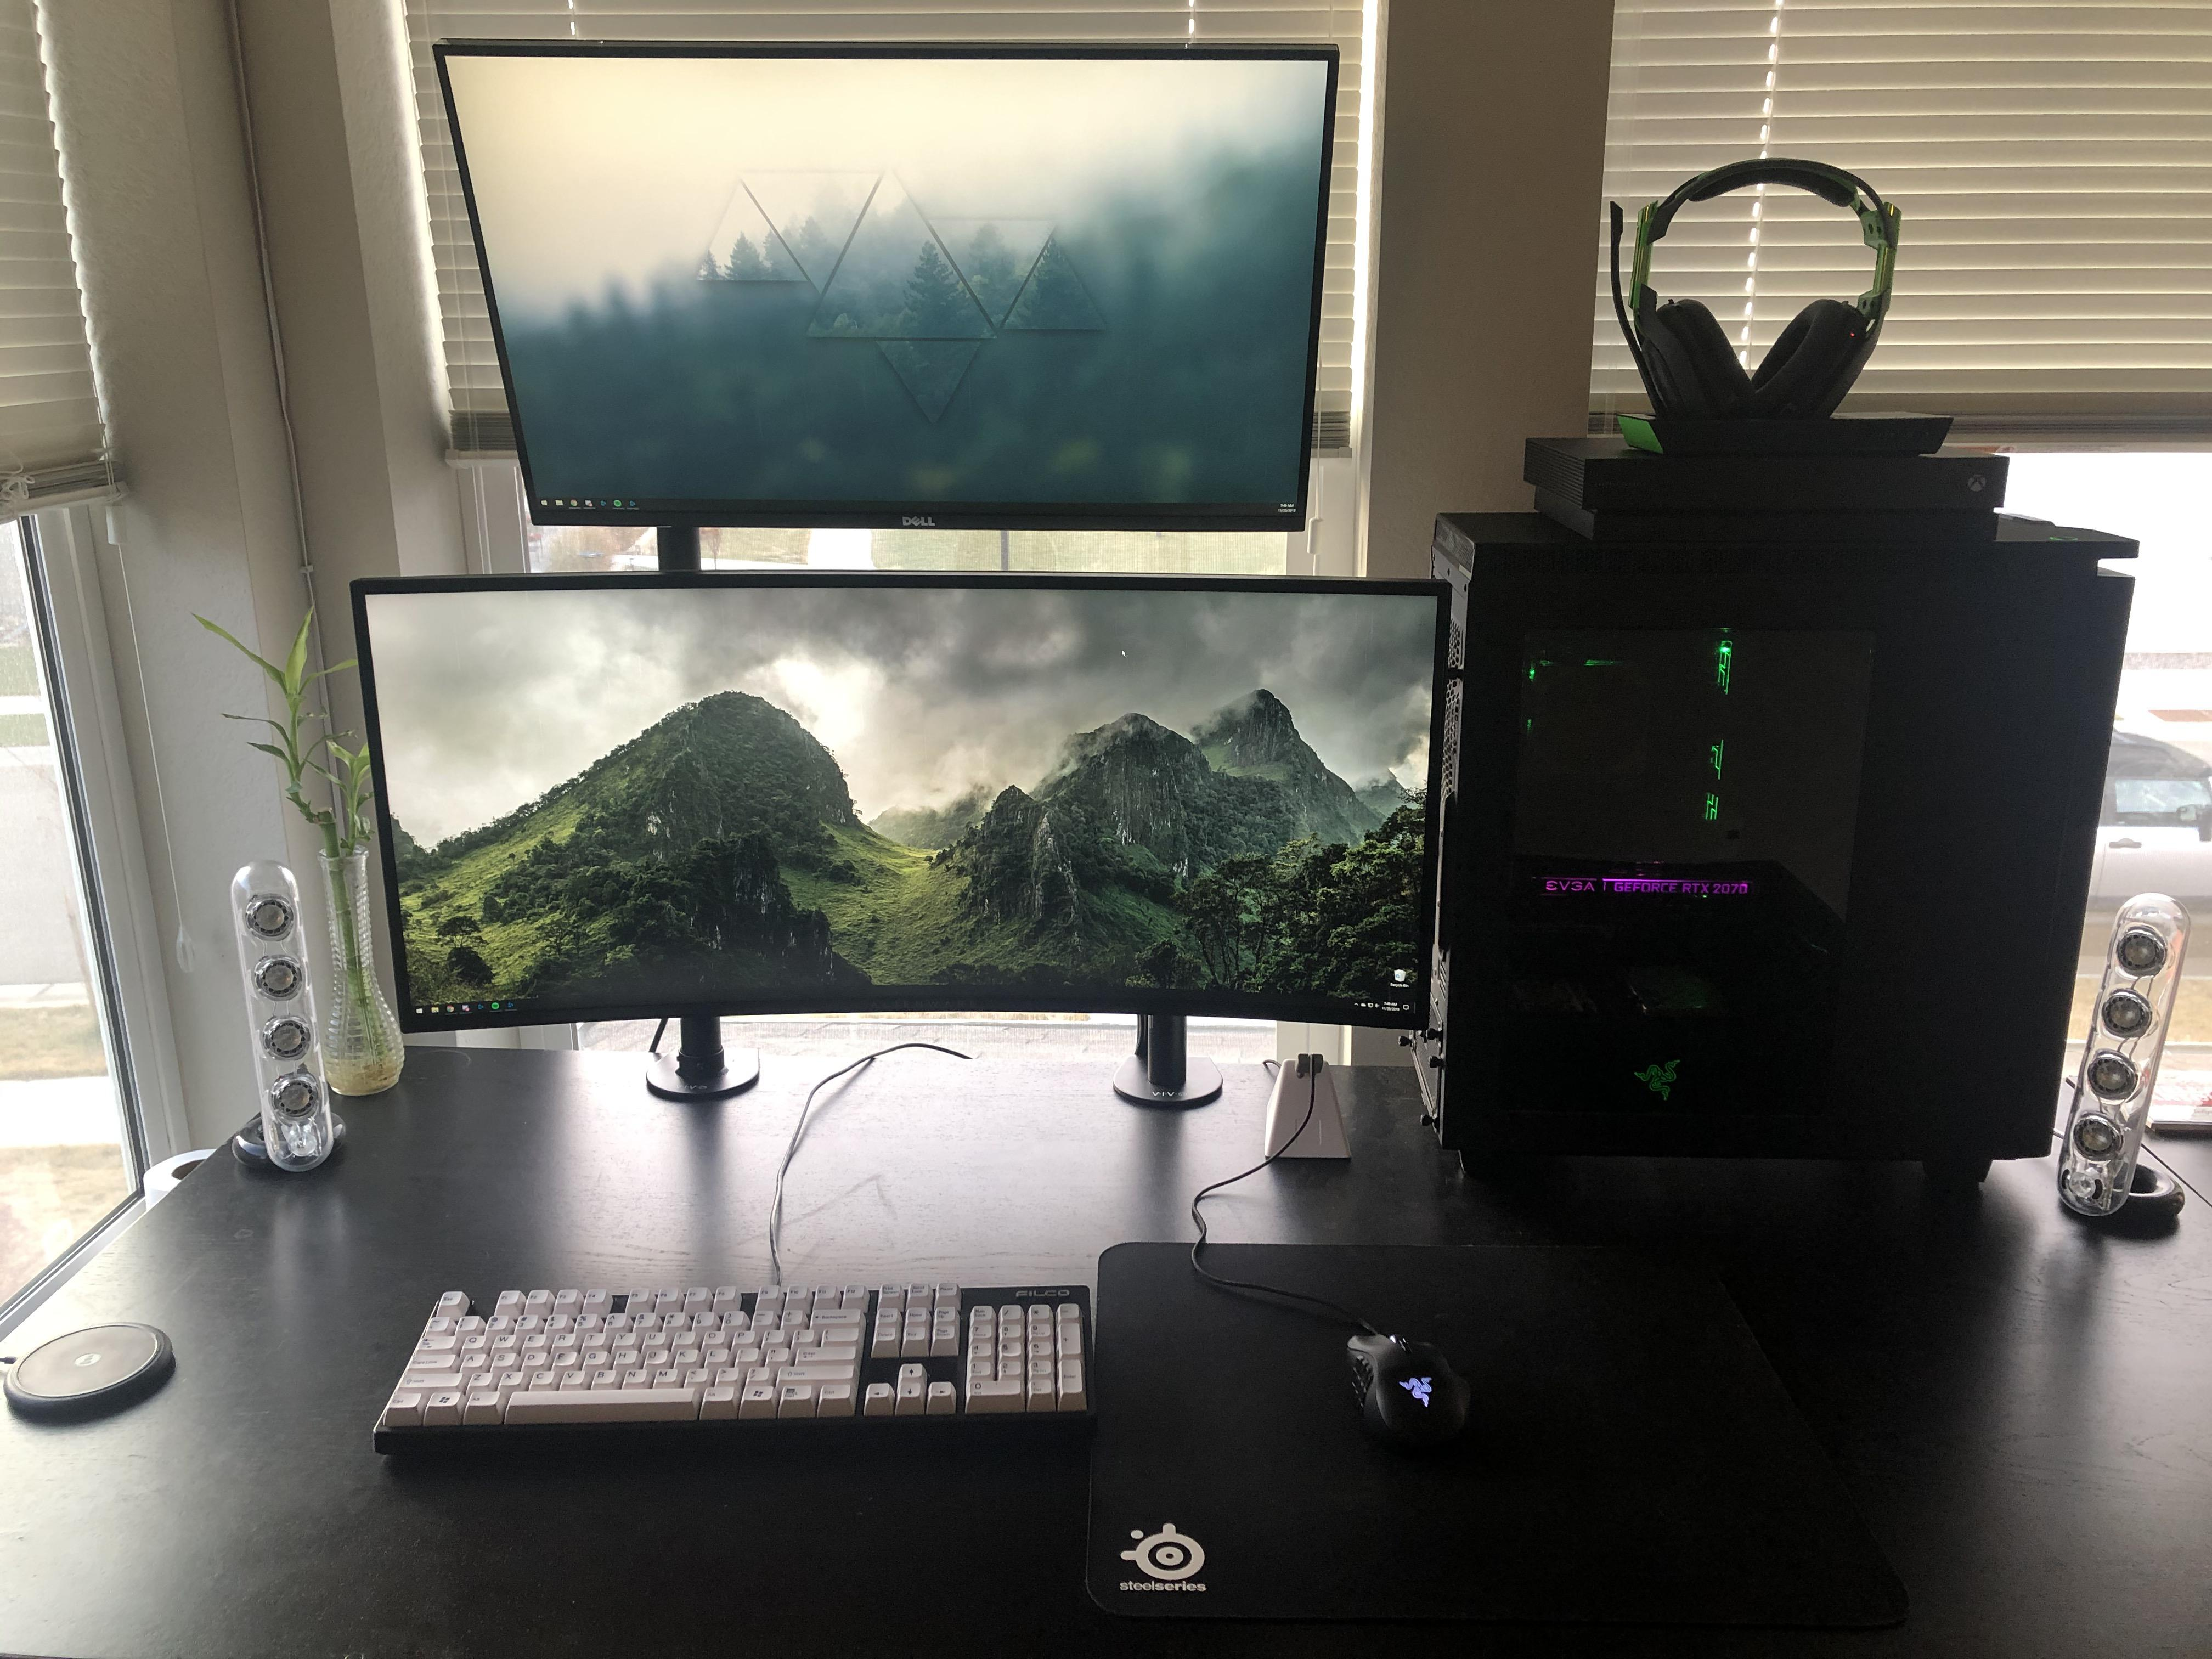Cellphone Charger (Wireless): (0, 1307, 181, 1438)
Decoration (Plant): (169, 582, 409, 1096)
Desk (Generic): (0, 1042, 2212, 1659)
Desktop (Windows): (1411, 514, 2139, 1185)
External Speakers (Generic): (2057, 896, 2188, 1230), (219, 854, 354, 1175)
Gaming Console: (1515, 439, 2010, 538)
Headphones (with Microphone): (1601, 159, 1954, 451)
Keyboard (Generic): (369, 1279, 1111, 1457)
Monitor (Landscape): (345, 572, 1453, 1046), (430, 30, 1341, 538)
Monitor Arm: (644, 1016, 787, 1101), (1120, 1016, 1204, 1103)
Mouse (Gaming): (1322, 1300, 1496, 1471)
Mousepad (Gaming): (1087, 1230, 1912, 1624)
